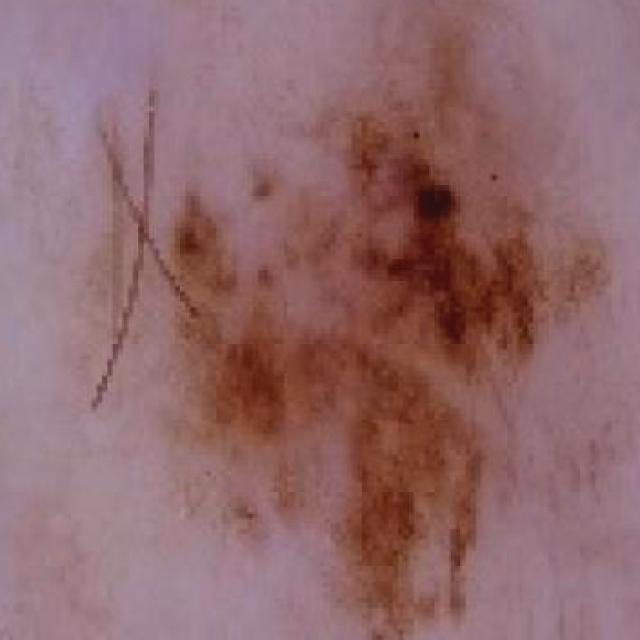MEL: (67, 35, 624, 640)
